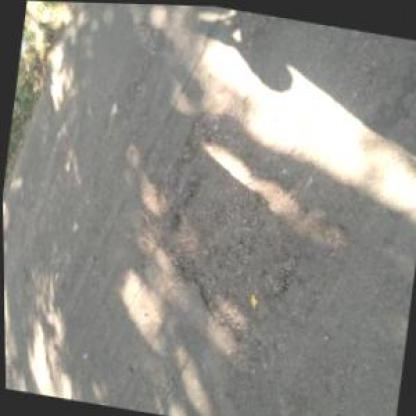pothole: (143, 100, 330, 354)
